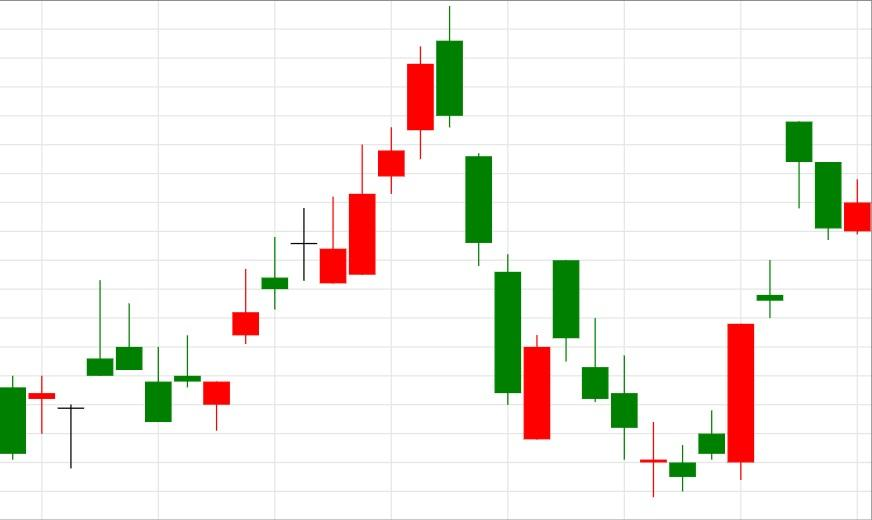three_black_crows_fall: (144, 5, 522, 431), (522, 260, 638, 459)
